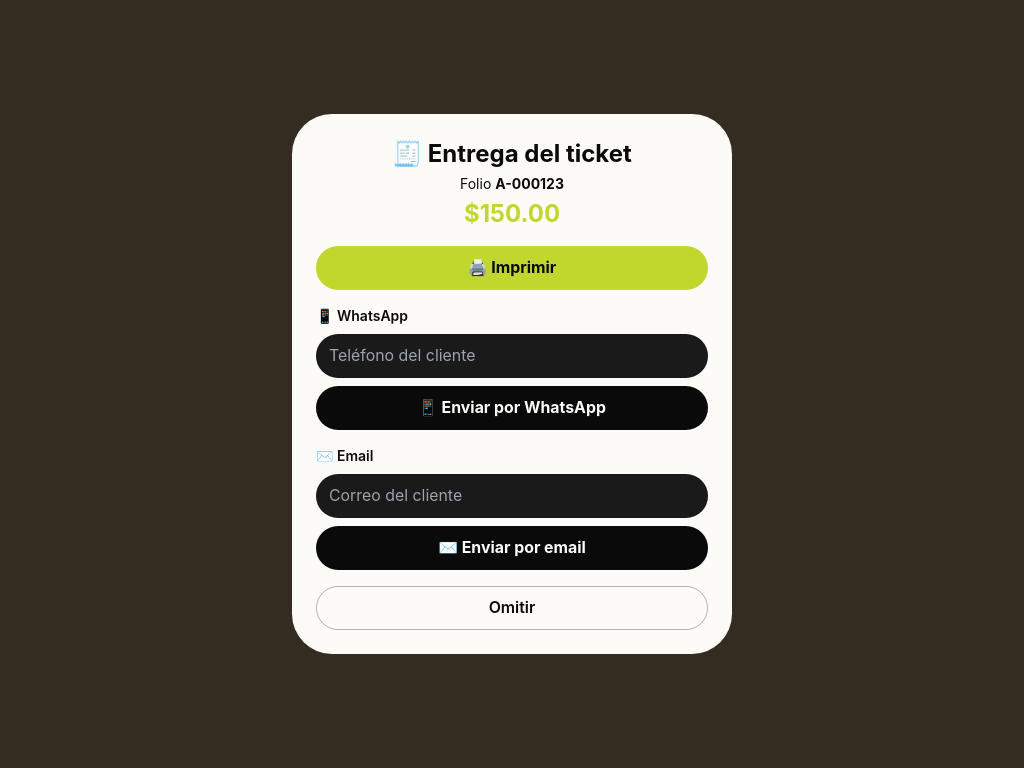
Test: F8.5 — TicketDeliveryPanel › criterio3: WhatsApp avisa cuando el encolado tiene éxito
Type "5512345678" into the field with id "input-telefono-entrega" at point(512, 356), box x1=316 y1=334 x2=708 y2=378
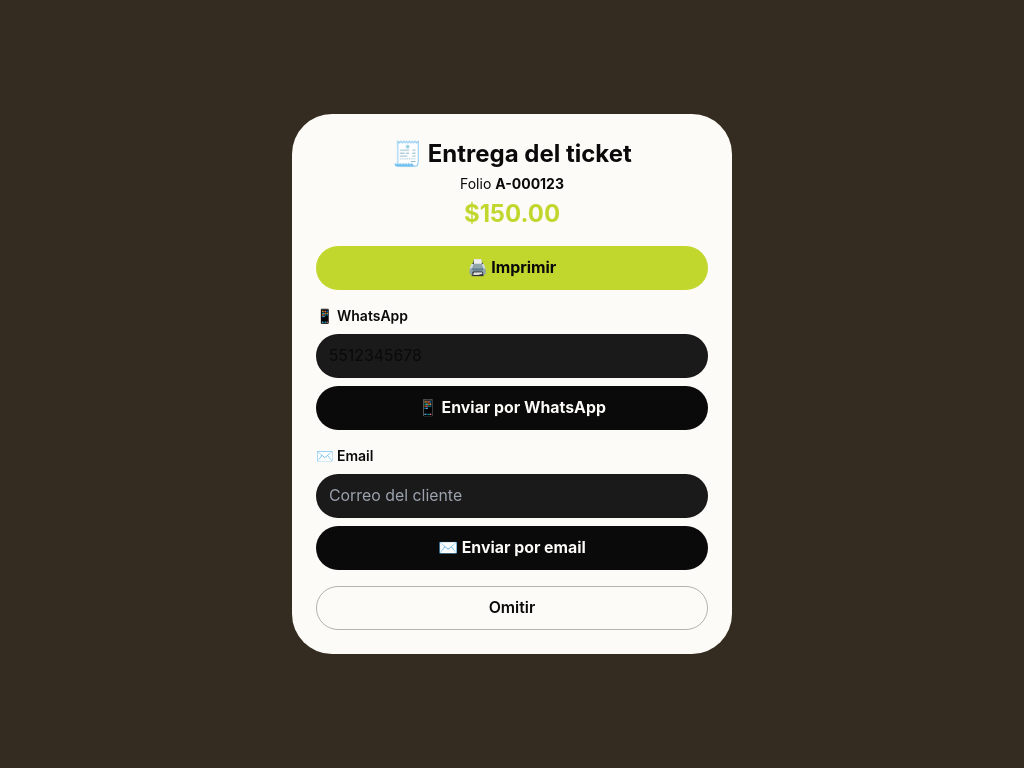
Click the button with id "btn-whatsapp" at point(512, 408), box x1=316 y1=386 x2=708 y2=430
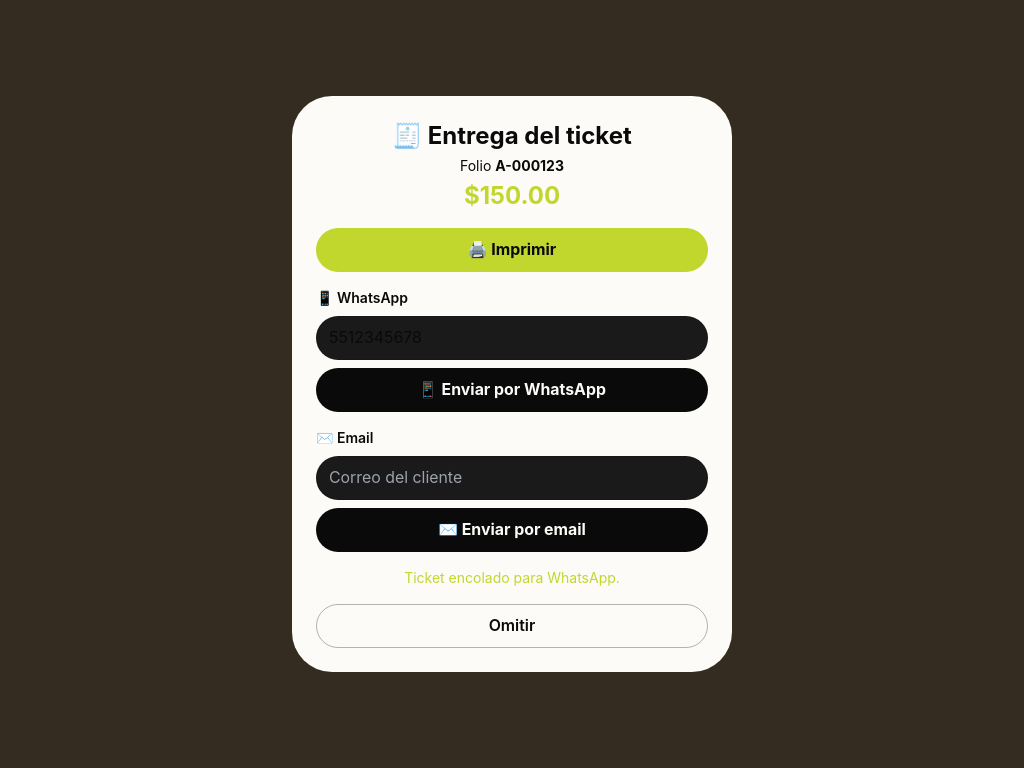
Now the message shows "encolado para WhatsApp", box x1=404 y1=569 x2=620 y2=586
